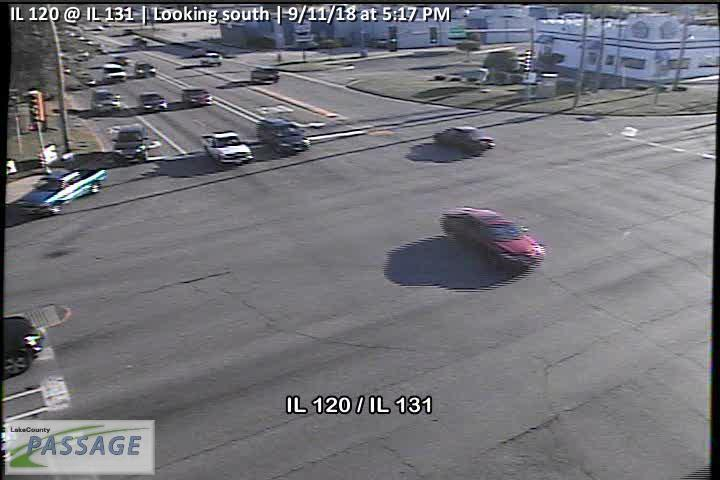SUV: (110, 125, 149, 165), (250, 64, 280, 83), (101, 62, 127, 83), (134, 60, 156, 77), (200, 51, 222, 66)
Sedan: (442, 205, 545, 269), (434, 125, 495, 157), (198, 131, 254, 164), (91, 90, 121, 113), (138, 91, 167, 111), (182, 88, 213, 106)
Truck: (14, 167, 107, 217)
